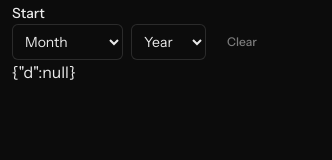
Test case: MonthYearField sync › partial date can be cleared
Later steps or results of the test are not shown.
Select "September" in the dropdown named "Start month" at x=68, y=42, box [12,24,123,60]
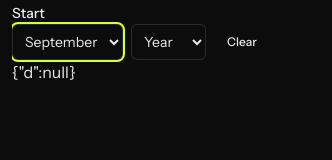
Expected: the button with aria-label "Clear Start" is enabled, [214,26,270,58]
